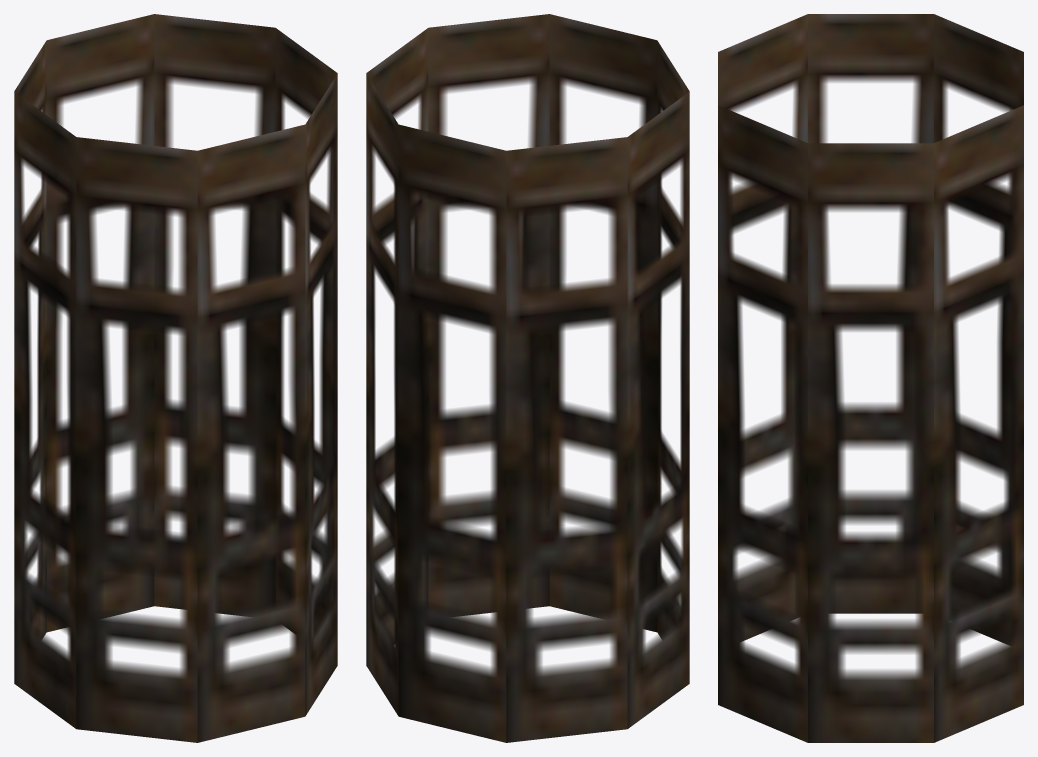
Rendered from prop-043.glb.
3 renders of one model, left to right at view 1: azimuth 30°, elevation 25°; view 2: azimuth 150°, elevation 25°; view 3: azimuth 270°, elevation 25°, orthographic.
Parts seen in each view (by area): view 1: root; view 2: root; view 3: root.
Boxes of the visible parts, x1=… form: root: x1=14, y1=14, x2=337, y2=742; root: x1=366, y1=14, x2=689, y2=742; root: x1=718, y1=14, x2=1023, y2=742.
Size of the model in its own units: 0.9238 by 2 by 0.9238.
Materials: 1 (1 with a texture image).
